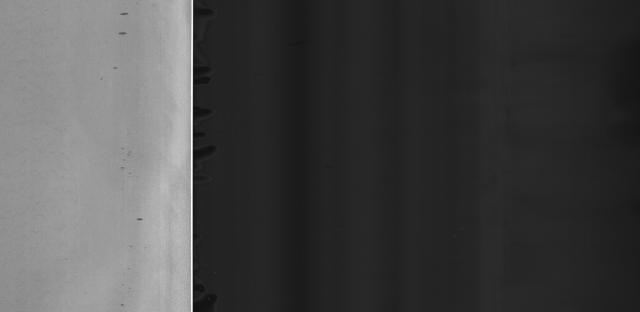oil_spot: (113, 26, 138, 44), (132, 210, 152, 230), (120, 8, 140, 19)
silk_spot: (0, 9, 90, 287)
